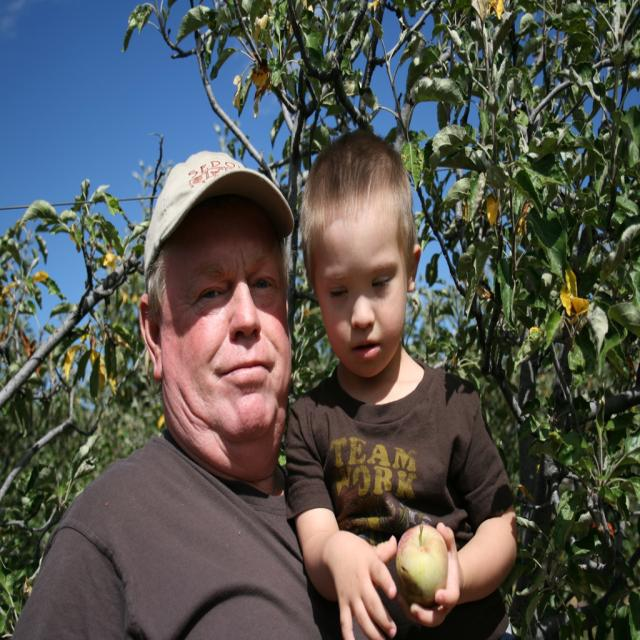Healty Apple: (394, 518, 453, 608)
